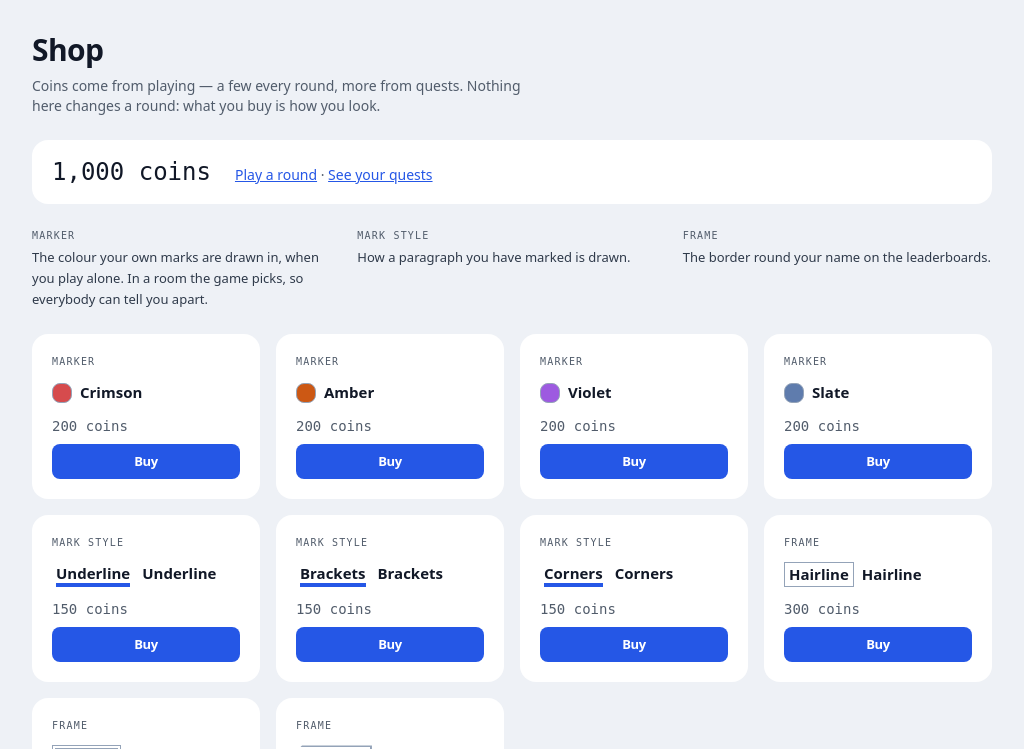
Test: H.7 — the button posts, and trusts the server › says the server’s refusal, in words a player can act on
Click the button "Buy" below "Crimson": click(146, 462) [52,444,240,479]
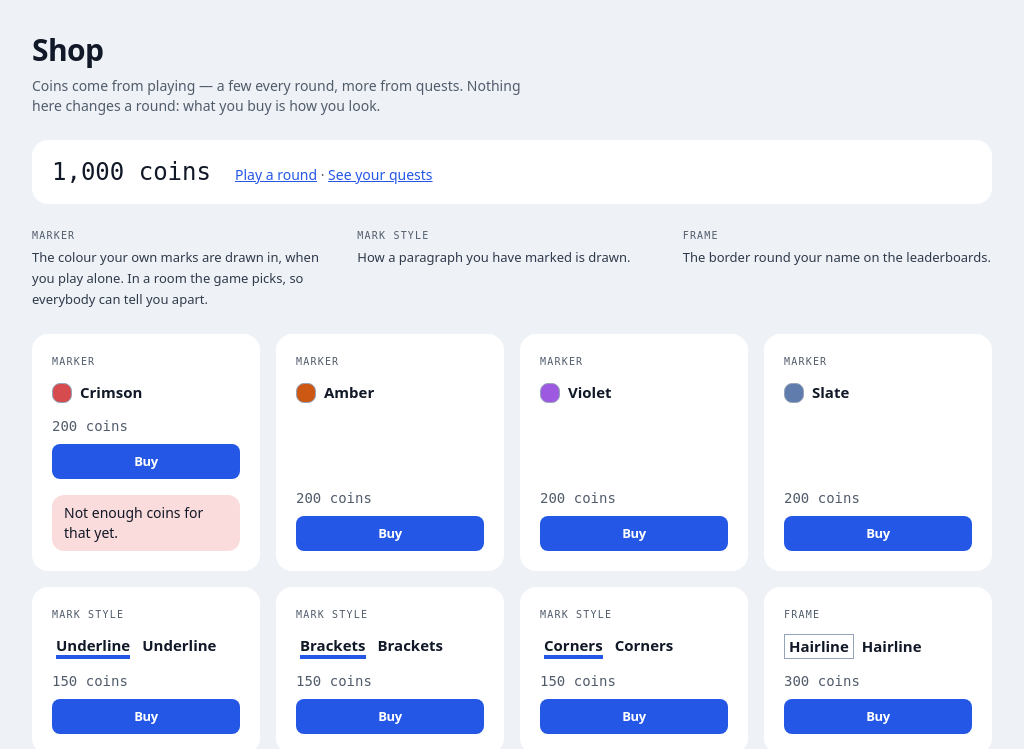
Result: the message shows "Not enough coins for that" at [64,503,203,542]
